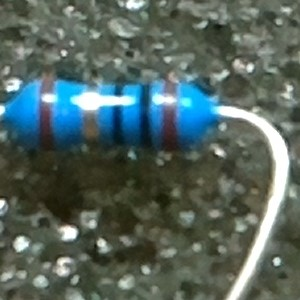black_band: (106, 82, 129, 150), (137, 81, 155, 151)
brown_band: (32, 73, 60, 154), (160, 80, 180, 154)
gold_band: (77, 84, 104, 146)
